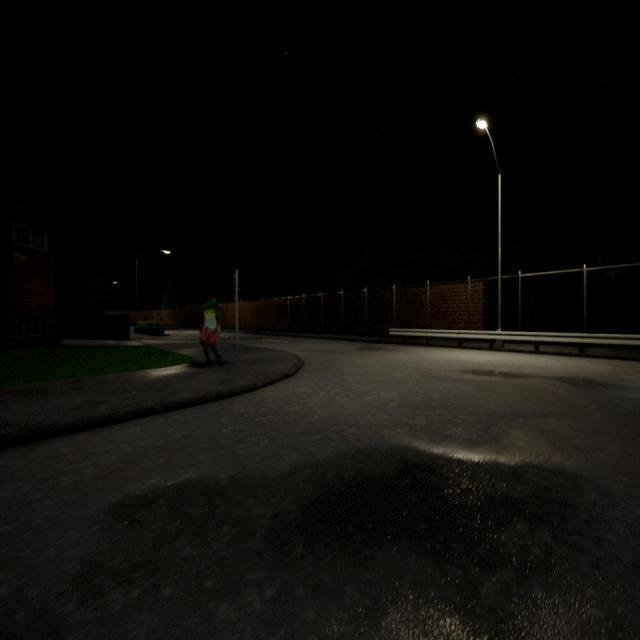Pedestrian: (198, 287, 227, 369)
